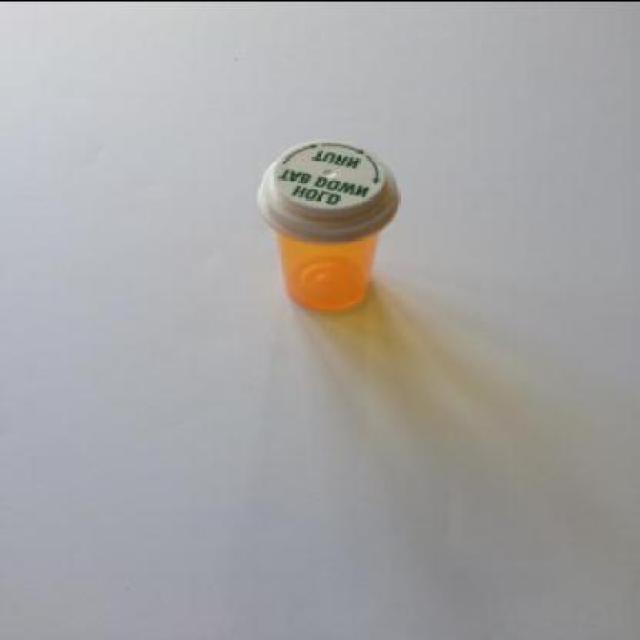PLASTIC: (258, 137, 402, 306), (255, 136, 400, 241)
